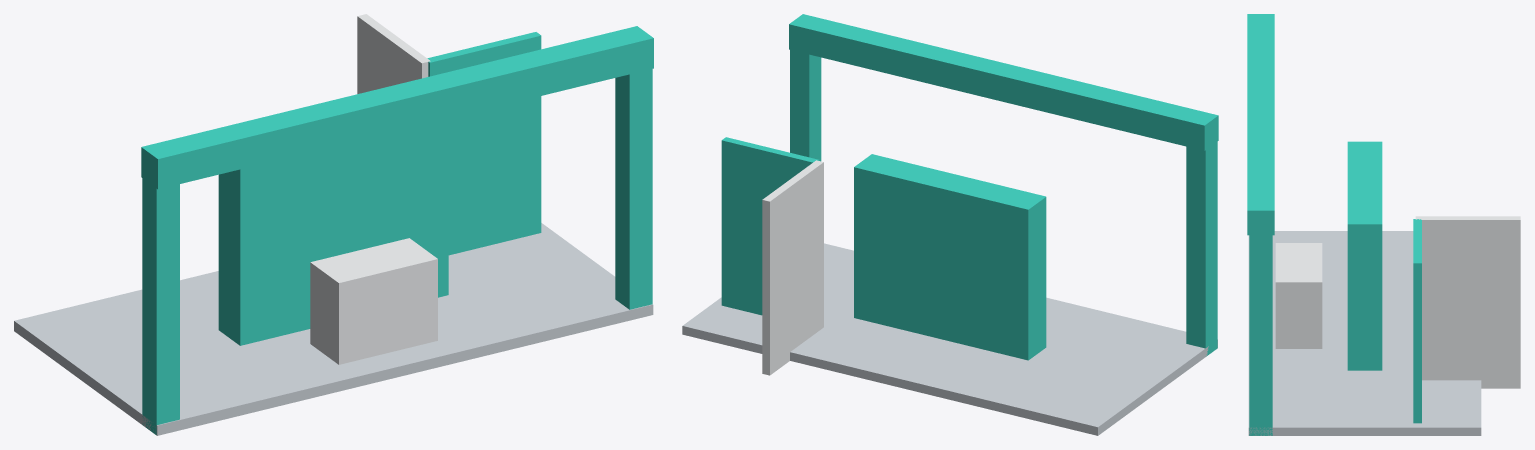
3 renders of one model, left to right at view 1: azimuth 30°, elevation 25°; view 2: azimuth 150°, elevation 25°; view 3: azimuth 270°, elevation 25°, orthographic. The views are drawn at different scales.
Parts seen in each view (by area): view 1: Exhibition Booth Concept; view 2: Exhibition Booth Concept; view 3: Exhibition Booth Concept.
Part boxes in pixels (left/top/right/bottom): Exhibition Booth Concept: left=14, top=14, right=653, bottom=435; Exhibition Booth Concept: left=682, top=14, right=1218, bottom=435; Exhibition Booth Concept: left=1247, top=14, right=1520, bottom=435.
Bounding box in the file's own units: 6 × 3.2 × 3.52.
